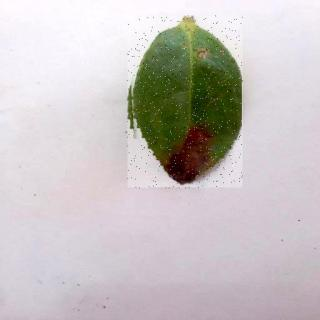Algal Leaf: (129, 17, 244, 190)
